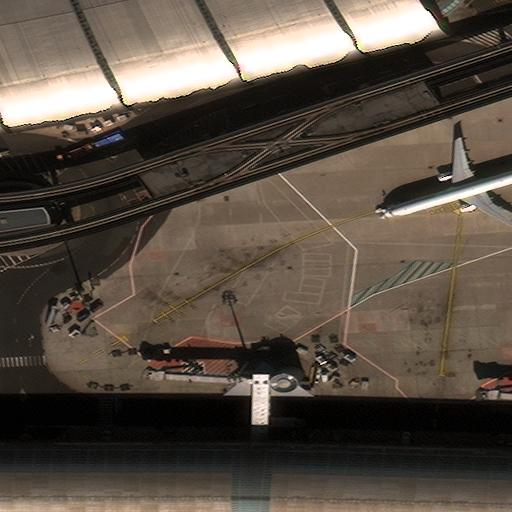Medium Civil Transport: (385, 139, 511, 229)
